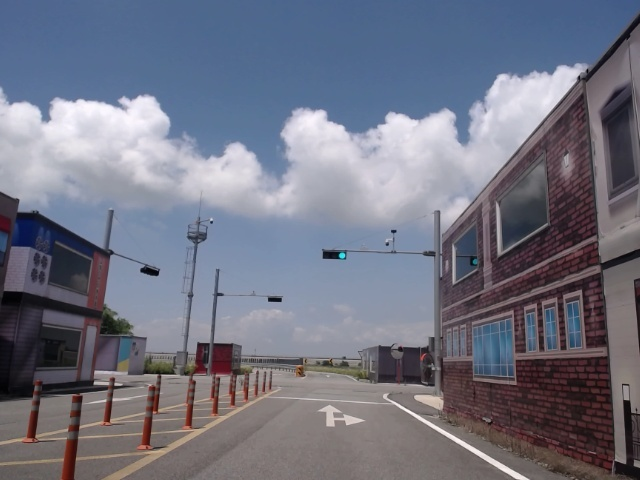green_3: (324, 251, 347, 260)
